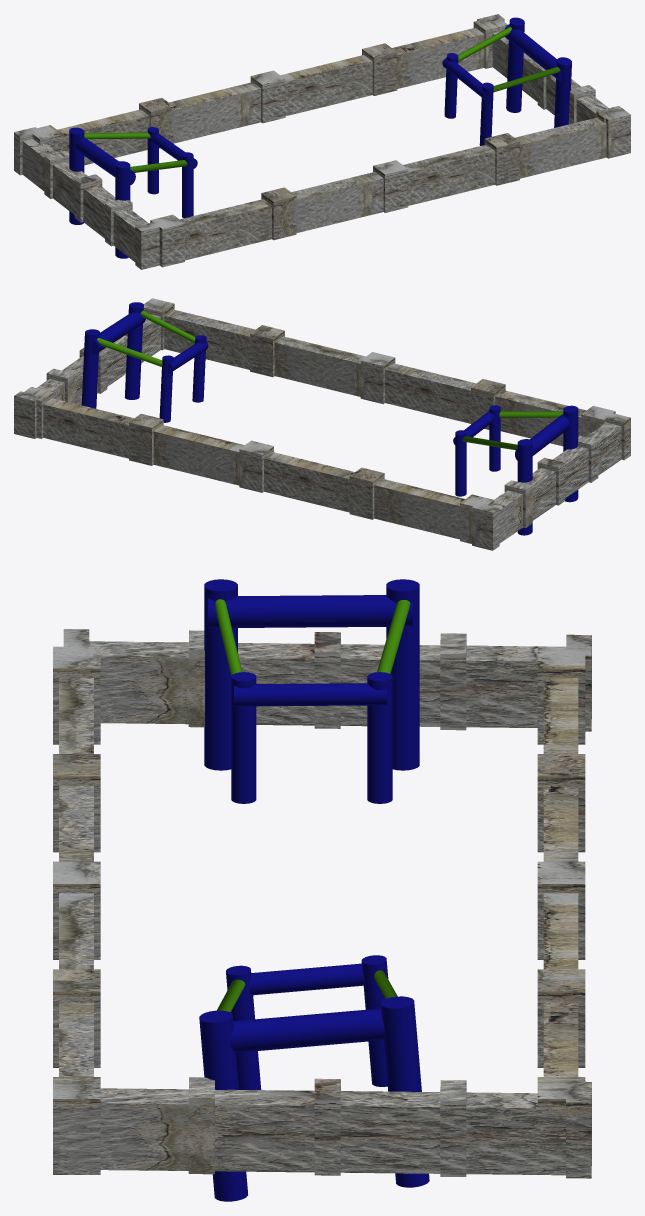
The model's file is terrain.obj.
The picture shows the model from 3 angles, top to bottom: view 1: azimuth 30°, elevation 25°; view 2: azimuth 150°, elevation 25°; view 3: azimuth 270°, elevation 25°; orthographic projection. The views are drawn at different scales.
Visible parts, largest first — view 1: Bo_te014, Bo_te021, Bo_te009, Bo_te006, Bo_te023, Bo_te018, Bo_te012, Bo_te001, Bo_te015, Bo_te024, Bo_te017, Bo_te013 (+40 smaller); view 2: Bo_te014, Bo_te009, Bo_te006, Bo_te012, Bo_te021, Bo_te001, Bo_te018, Bo_te023, Bo_te015, Bo_te048, Cylindre016, Bo_te010 (+39 smaller); view 3: Bo_te050, Bo_te053, Bo_te042, Bo_te057, Bo_te059, Bo_te047, Cylindre003, Cylindre014, Cylindre002, Bo_te017, Cylindre001, Bo_te038 (+38 smaller).
Boxes of the visible parts, left/top/right/bottom form: Bo_te014: left=403, top=144, right=495, bottom=205; Bo_te021: left=291, top=172, right=383, bottom=232; Bo_te009: left=281, top=55, right=372, bottom=115; Bo_te006: left=169, top=82, right=260, bottom=143; Bo_te023: left=180, top=199, right=271, bottom=260; Bo_te018: left=515, top=117, right=606, bottom=178; Bo_te012: left=392, top=27, right=484, bottom=88; Bo_te001: left=57, top=109, right=149, bottom=165; Bo_te015: left=484, top=133, right=519, bottom=185; Bo_te024: left=150, top=214, right=184, bottom=267; Bo_te017: left=596, top=106, right=630, bottom=158; Bo_te013: left=363, top=43, right=397, bottom=95; Bo_te014: left=274, top=336, right=365, bottom=396; Bo_te009: left=153, top=425, right=244, bottom=485; Bo_te006: left=264, top=452, right=354, bottom=512; Bo_te012: left=43, top=398, right=133, bottom=458; Bo_te021: left=385, top=363, right=475, bottom=423; Bo_te001: left=374, top=479, right=465, bottom=539; Bo_te018: left=164, top=309, right=255, bottom=369; Bo_te023: left=495, top=390, right=586, bottom=446; Bo_te015: left=250, top=325, right=284, bottom=377; Bo_te048: left=472, top=503, right=499, bottom=550; Cylindre016: left=124, top=302, right=143, bottom=399; Bo_te010: left=239, top=440, right=273, bottom=492; Bo_te050: left=340, top=1091, right=440, bottom=1173; Bo_te053: left=215, top=1089, right=314, bottom=1172; Bo_te042: left=89, top=641, right=188, bottom=724; Bo_te057: left=100, top=1088, right=188, bottom=1170; Bo_te059: left=466, top=1092, right=565, bottom=1175; Bo_te047: left=466, top=645, right=546, bottom=727; Cylindre003: left=207, top=595, right=412, bottom=628; Cylindre014: left=230, top=1008, right=384, bottom=1052; Cylindre002: left=386, top=579, right=419, bottom=770; Bo_te017: left=53, top=1077, right=100, bottom=1174; Cylindre001: left=204, top=579, right=237, bottom=770; Bo_te038: left=238, top=643, right=314, bottom=725.
Bounding box in the file's own units: 588 × 112 × 283.
